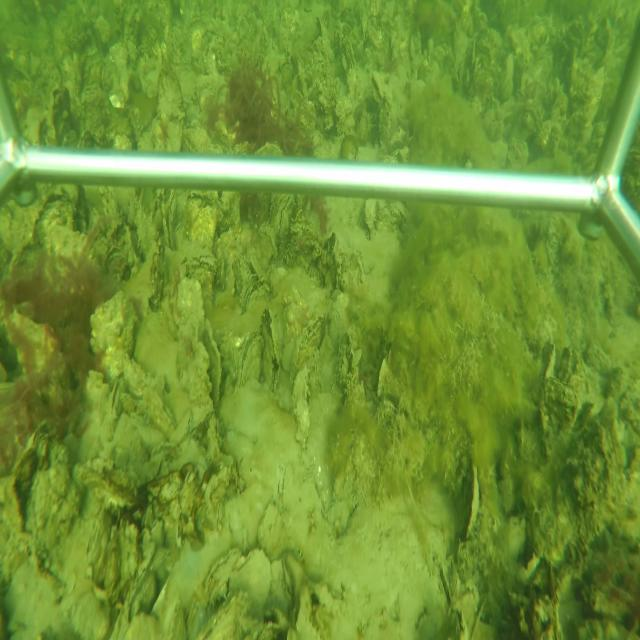Oyster-Closed: (109, 536, 156, 636), (229, 548, 271, 613), (291, 309, 328, 372), (204, 546, 239, 604), (458, 462, 481, 543), (202, 320, 222, 410), (238, 329, 263, 389), (240, 276, 271, 315), (264, 307, 281, 364), (162, 190, 177, 249)
Oyster-Indeterminate: (292, 363, 315, 448)
Oyster-Open: (107, 370, 125, 439)
